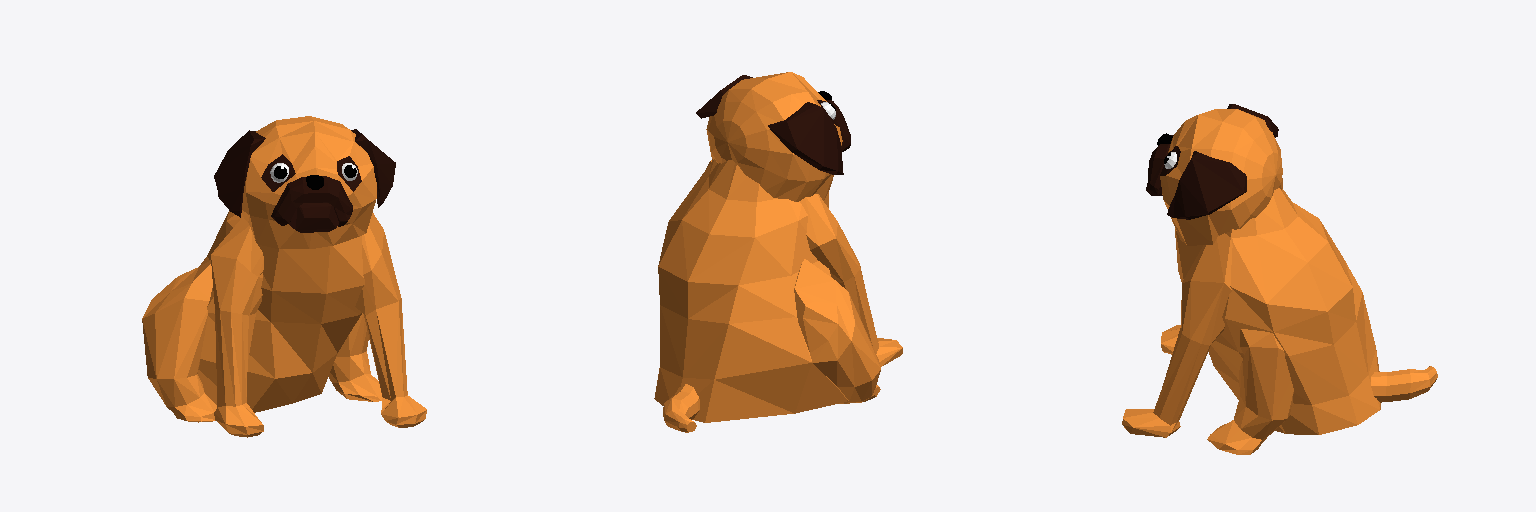
The picture shows the model from 3 angles: view 1: azimuth 30°, elevation 25°; view 2: azimuth 150°, elevation 25°; view 3: azimuth 270°, elevation 25°; orthographic projection.
Parts seen in each view (by area): view 1: group[number redacted], group[number redacted], group[number redacted], group[number redacted], group[number redacted], group[number redacted], group[number redacted], group[number redacted], group[number redacted], group[number redacted], group[number redacted]; view 2: group[number redacted], group[number redacted], group[number redacted], group[number redacted], group[number redacted], group[number redacted]; view 3: group[number redacted], group[number redacted], group[number redacted], group[number redacted], group[number redacted], group[number redacted], group[number redacted].
Boxes of the visible parts, x1=… form: group[number redacted]: x1=198, y1=211, x2=364, y2=412; group[number redacted]: x1=242, y1=116, x2=376, y2=248; group[number redacted]: x1=211, y1=217, x2=263, y2=437; group[number redacted]: x1=142, y1=260, x2=216, y2=422; group[number redacted]: x1=355, y1=213, x2=426, y2=427; group[number redacted]: x1=329, y1=313, x2=381, y2=401; group[number redacted]: x1=214, y1=130, x2=265, y2=217; group[number redacted]: x1=289, y1=202, x2=338, y2=232; group[number redacted]: x1=351, y1=129, x2=395, y2=207; group[number redacted]: x1=271, y1=177, x2=315, y2=225; group[number redacted]: x1=316, y1=176, x2=352, y2=226; group[number redacted]: x1=654, y1=159, x2=846, y2=422; group[number redacted]: x1=706, y1=72, x2=842, y2=201; group[number redacted]: x1=794, y1=259, x2=880, y2=403; group[number redacted]: x1=799, y1=194, x2=902, y2=366; group[number redacted]: x1=768, y1=102, x2=843, y2=174; group[number redacted]: x1=663, y1=384, x2=699, y2=432; group[number redacted]: x1=1175, y1=188, x2=1380, y2=434; group[number redacted]: x1=1160, y1=109, x2=1282, y2=245; group[number redacted]: x1=1122, y1=233, x2=1232, y2=437; group[number redacted]: x1=1207, y1=329, x2=1293, y2=454; group[number redacted]: x1=1167, y1=151, x2=1246, y2=219; group[number redacted]: x1=1371, y1=366, x2=1437, y2=402; group[number redacted]: x1=1146, y1=144, x2=1169, y2=195.
Size of the model in its own units: 0.3371 by 0.4543 by 0.4332.